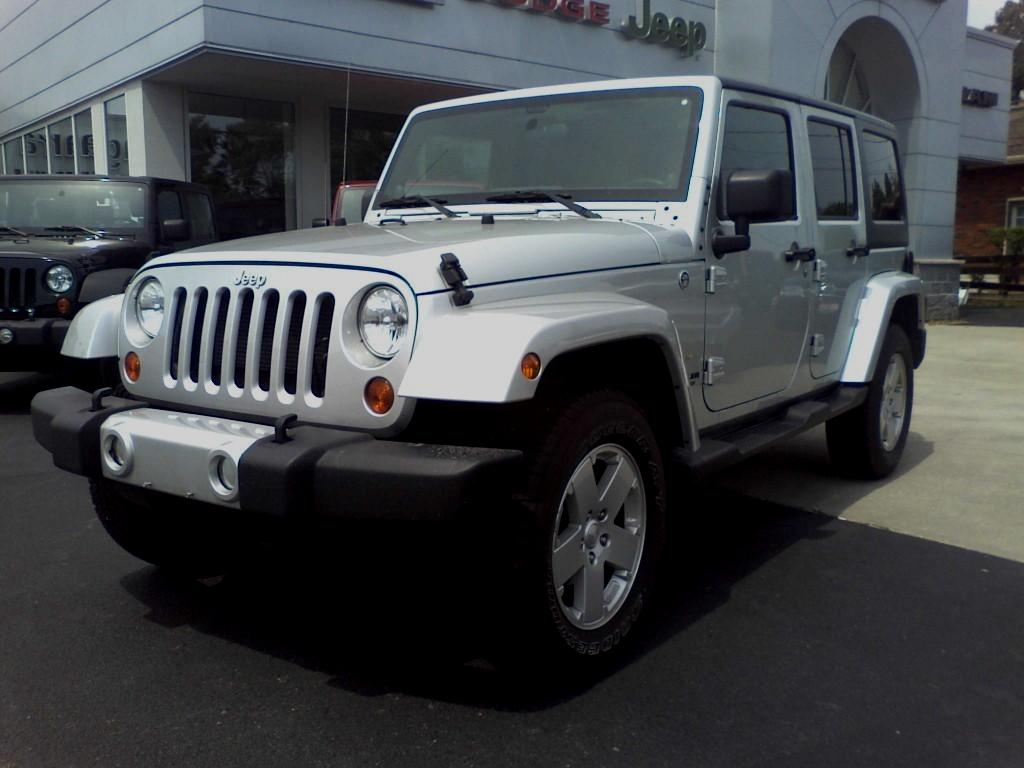jeep: (206, 250, 298, 302)
